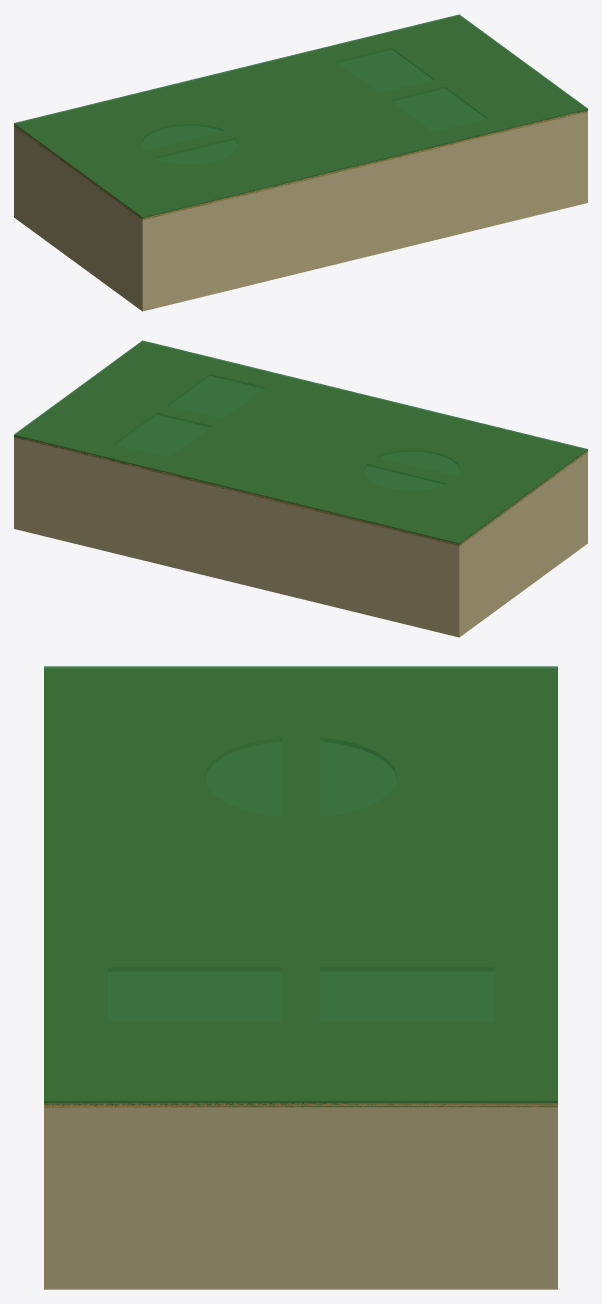
Rendered from negative-polarity.glb.
3 views of the same model, one above another, from view 1: azimuth 30°, elevation 25°; view 2: azimuth 150°, elevation 25°; view 3: azimuth 270°, elevation 25° (orthographic). The views are drawn at different scales.
Visible parts, largest first — view 1: layer/@soldermask-top, layer/@core, layer/TOP; view 2: layer/@soldermask-top, layer/@core, layer/TOP; view 3: layer/@soldermask-top, layer/@core, layer/TOP.
Part boxes in pixels (x1=…): layer/@soldermask-top: x1=14, y1=14, x2=587, y2=219; layer/@core: x1=14, y1=51, x2=587, y2=311; layer/TOP: x1=14, y1=17, x2=587, y2=220; layer/@soldermask-top: x1=14, y1=340, x2=587, y2=545; layer/@core: x1=14, y1=377, x2=587, y2=637; layer/TOP: x1=14, y1=343, x2=587, y2=546; layer/@soldermask-top: x1=44, y1=666, x2=557, y2=1107; layer/@core: x1=44, y1=744, x2=557, y2=1289; layer/TOP: x1=44, y1=669, x2=557, y2=1107.
Size of the model in its own units: 0.008 by 0.00162 by 0.004.
